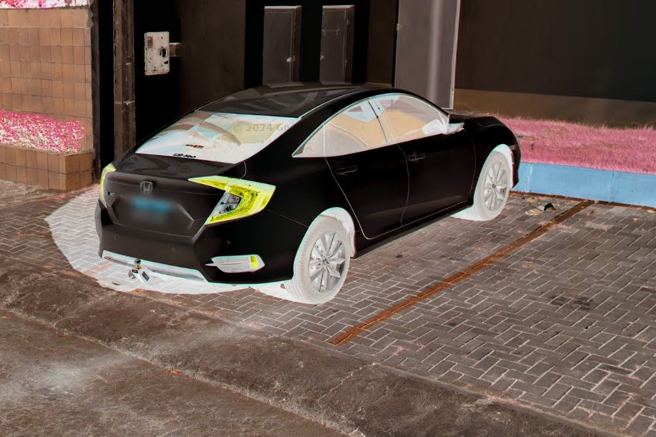car: (90, 77, 523, 305)
